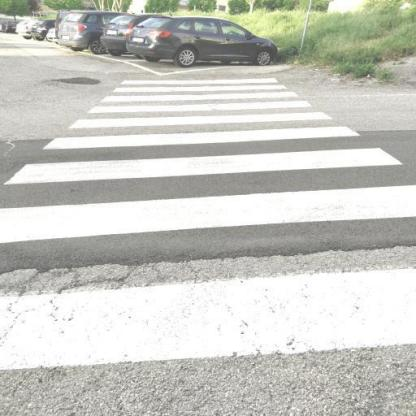crosswalk: (1, 123, 407, 193), (97, 84, 306, 104)
